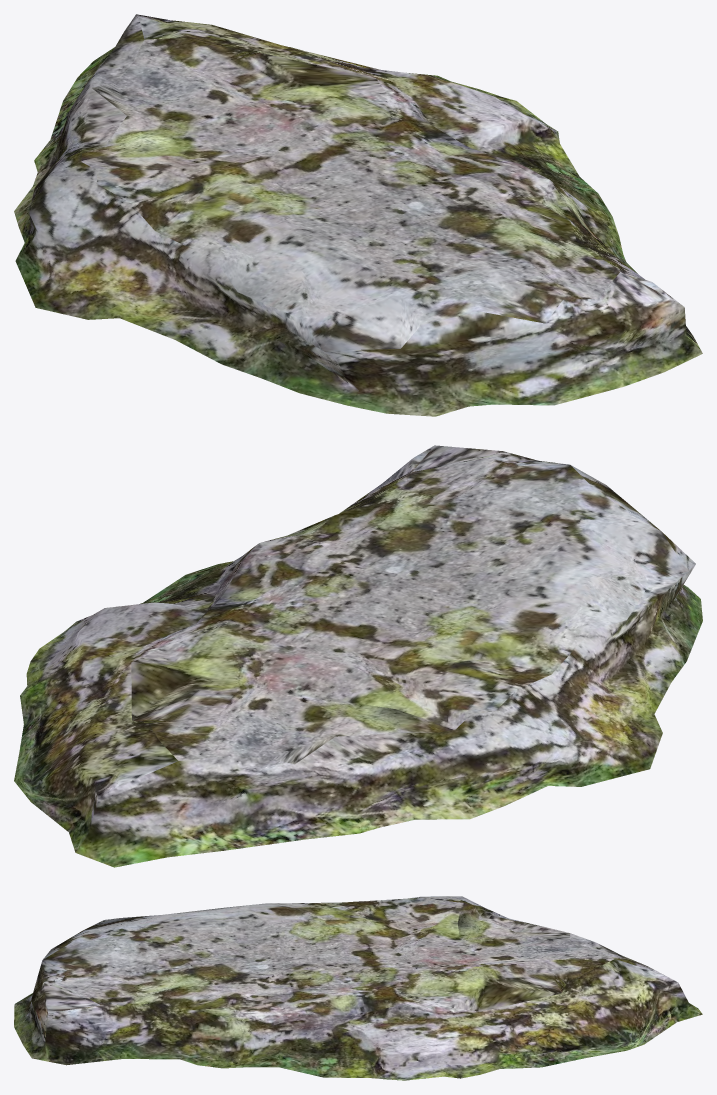
The model's file is Mossy_Slab_2.glb.
3 renders of one model, top to bottom at view 1: azimuth 30°, elevation 25°; view 2: azimuth 150°, elevation 25°; view 3: azimuth 270°, elevation 25°, orthographic. The views are drawn at different scales.
Parts seen in each view (by area): view 1: Mossy_Slab_2; view 2: Mossy_Slab_2; view 3: Mossy_Slab_2.
Part boxes in pixels (x1,y1,x2,y2): Mossy_Slab_2: [14, 14, 702, 416]; Mossy_Slab_2: [14, 445, 702, 867]; Mossy_Slab_2: [14, 896, 702, 1080].
Size of the model in its own units: 1.09 by 0.16 by 1.64.
1 material, 1 textured.
